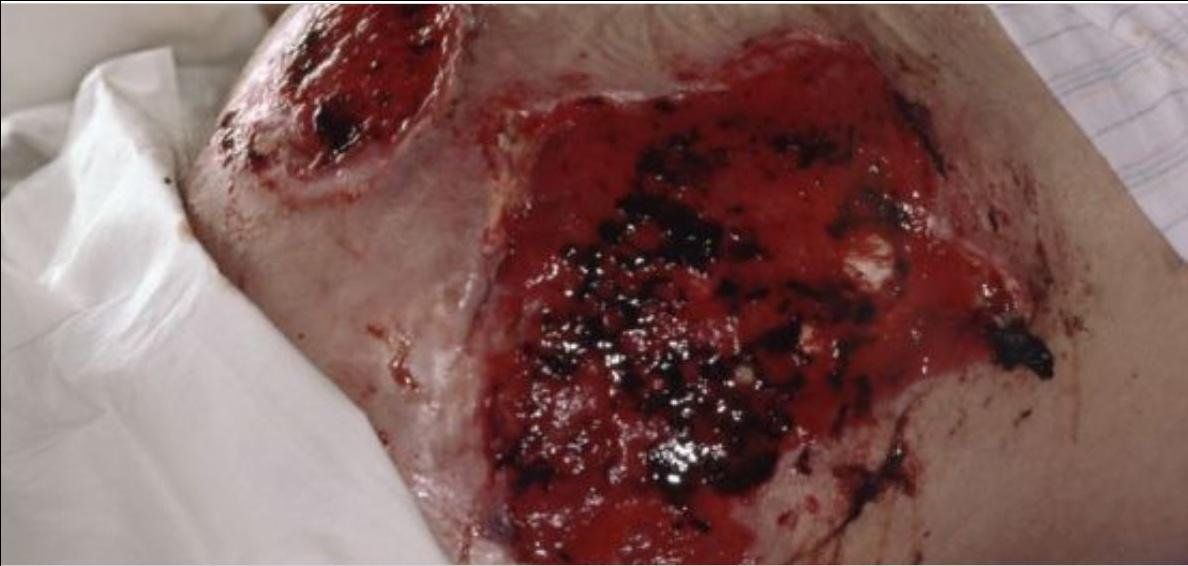Stage3: (427, 30, 1121, 533)
